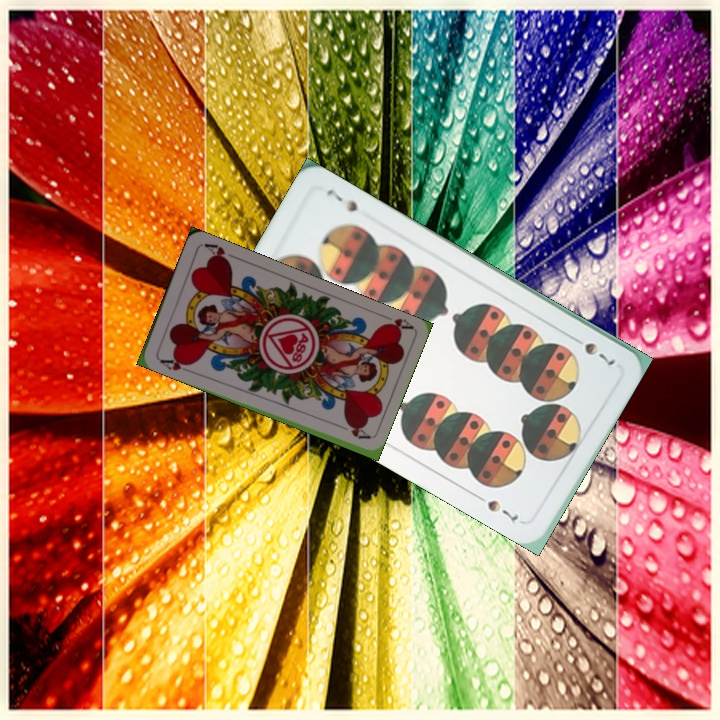HA: (375, 311, 415, 335), (154, 353, 194, 375)
S7: (566, 332, 618, 369)
